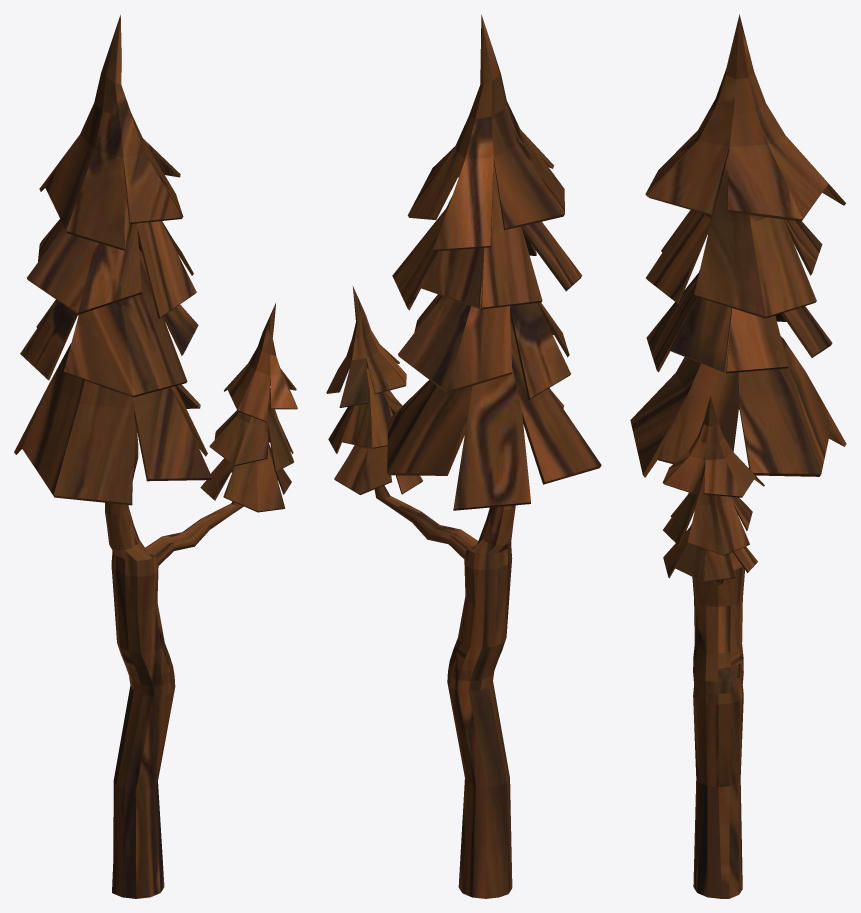
The model's file is Arbol2del26PPP.fbx.
The picture shows the model from 3 angles, left to right: view 1: azimuth 30°, elevation 25°; view 2: azimuth 150°, elevation 25°; view 3: azimuth 270°, elevation 25°; orthographic projection.
Visible parts, largest first — view 1: Cone.006; view 2: Cone.006; view 3: Cone.006.
Part boxes in pixels (x1,y1,x2,y2): Cone.006: [14, 15, 297, 898]; Cone.006: [326, 14, 601, 898]; Cone.006: [630, 14, 846, 898].
Size of the model in its own units: 1180 by 3904 by 878.
